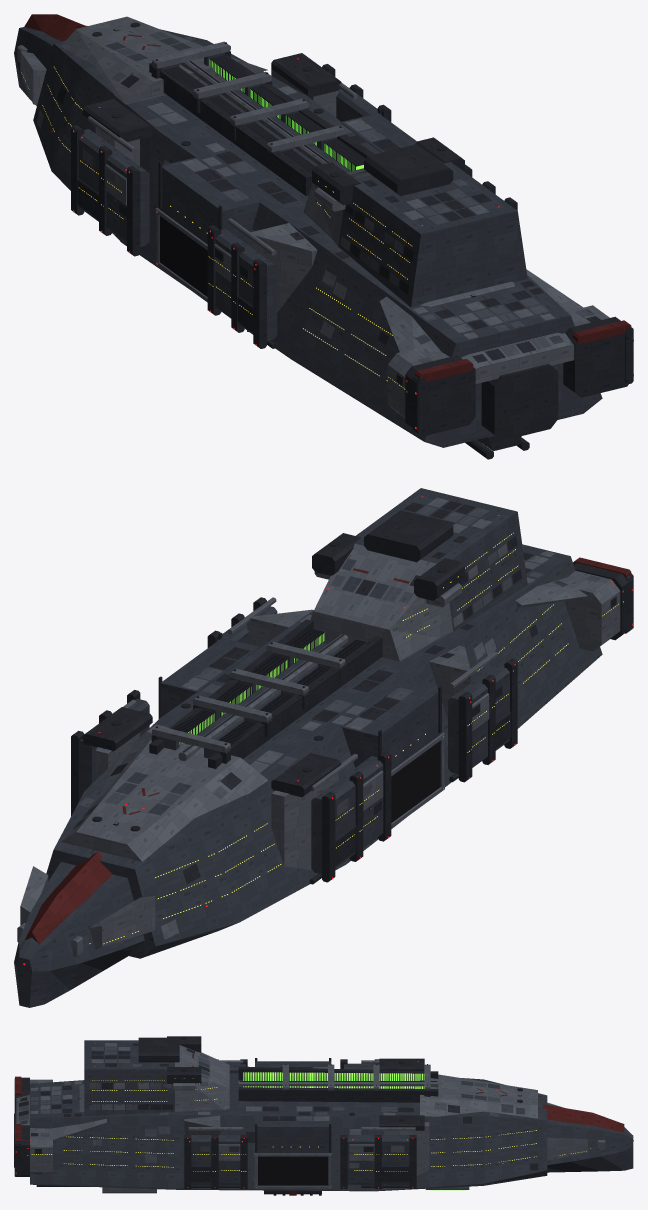
File: juggernaut_hull.glb
3 renders of one model, top to bottom at view 1: azimuth 30°, elevation 25°; view 2: azimuth 150°, elevation 25°; view 3: azimuth 270°, elevation 25°, orthographic. The views are drawn at different scales.
Parts seen in each view (by area): view 1: Juggernaut_Hull; view 2: Juggernaut_Hull; view 3: Juggernaut_Hull.
Boxes of the visible parts, left/top/right/bottom form: Juggernaut_Hull: left=14, top=14, right=633, bottom=459; Juggernaut_Hull: left=14, top=488, right=633, bottom=1007; Juggernaut_Hull: left=14, top=1036, right=633, bottom=1195.
Bounding box in the file's own units: 306 × 264 × 1025.
10 materials, 5 textured.
